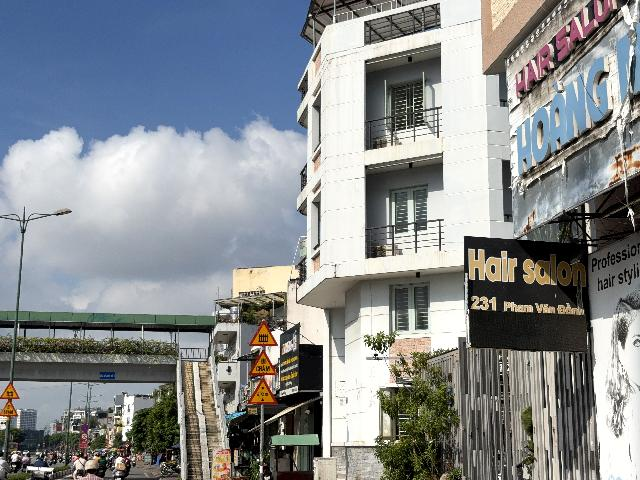chieu-cao-tinh-khong-thuc-te: (247, 377, 278, 405)
di-cham: (248, 349, 278, 375), (0, 399, 18, 417)
noi-giao-nhau-voi-duong-sat-co-rao-chan: (249, 320, 278, 346), (0, 381, 20, 399)
